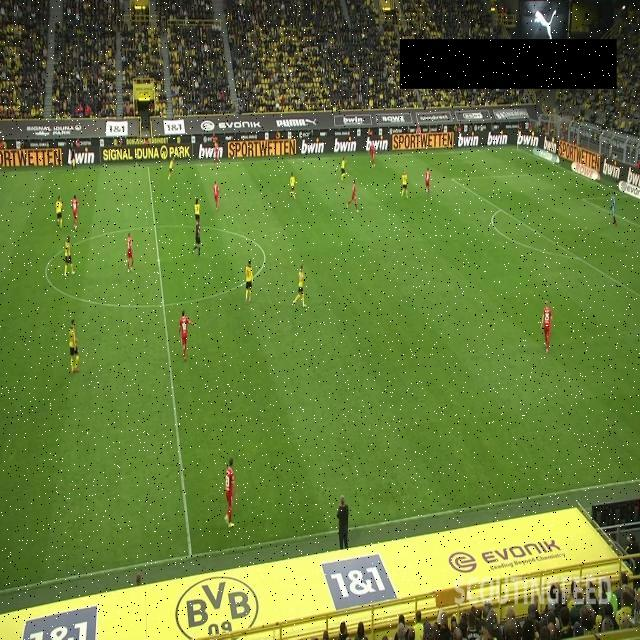Ball: (373, 164, 376, 168)
Corner: (518, 124, 520, 151)
GoalKeeper: (610, 192, 618, 226)
Referee: (191, 222, 201, 257), (70, 147, 76, 169)
TEAM 1: (178, 308, 198, 362), (224, 458, 236, 528), (540, 300, 554, 354), (347, 178, 359, 212), (70, 193, 80, 230), (126, 232, 134, 273), (212, 136, 220, 168), (212, 180, 220, 210), (424, 167, 432, 196), (370, 143, 376, 168)
TEAM 2: (67, 318, 79, 374), (293, 263, 307, 309), (63, 235, 75, 278), (244, 258, 253, 304), (55, 194, 63, 228), (401, 168, 409, 200), (194, 198, 202, 226), (167, 158, 175, 180), (290, 172, 296, 200), (341, 156, 347, 182)
